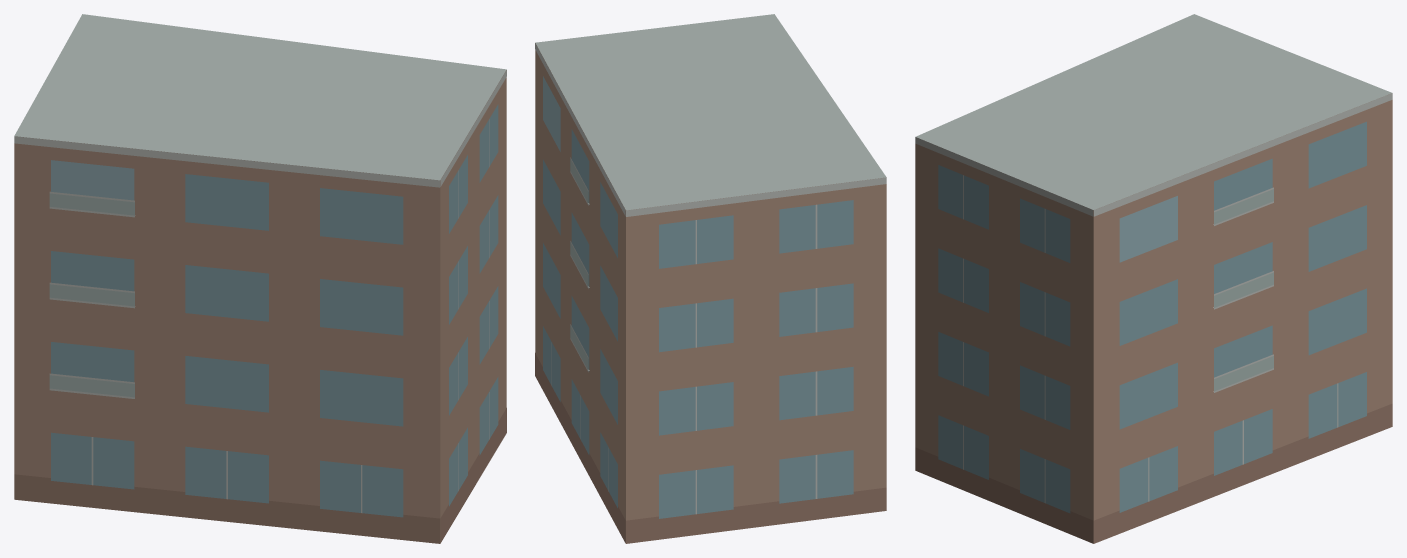
Rendered from survey-upis-33002448.glb.
3 views of the same model, side by side, from view 1: azimuth 30°, elevation 25°; view 2: azimuth 150°, elevation 25°; view 3: azimuth 270°, elevation 25° (orthographic). The views are drawn at different scales.
Visible parts, largest first — view 1: survey-upis-33002448.tmp; view 2: survey-upis-33002448.tmp; view 3: survey-upis-33002448.tmp.
Boxes of the visible parts, x1,y1,x2,y2 form: survey-upis-33002448.tmp: (14,14,506,543); survey-upis-33002448.tmp: (535,14,886,543); survey-upis-33002448.tmp: (915,14,1392,543).
Size of the model in its own units: 15.39 by 12.2 by 15.82.
